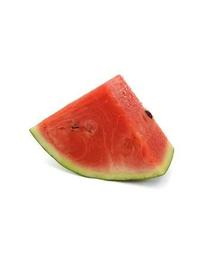watermelon: (29, 74, 176, 183)
